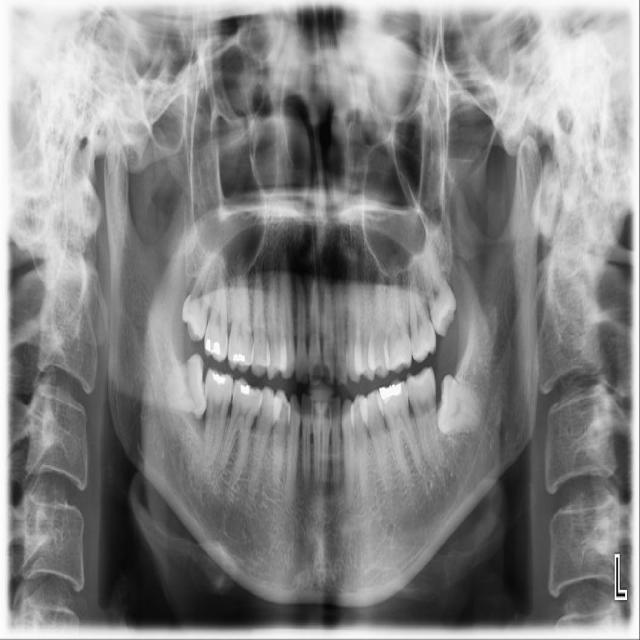Filling: (379, 383, 402, 401), (205, 339, 221, 356), (213, 374, 225, 384), (233, 353, 245, 362), (240, 384, 249, 395)
Root Canal Treatment: (593, 579, 598, 592)
impacted tooth: (147, 355, 204, 414), (438, 374, 482, 434)
